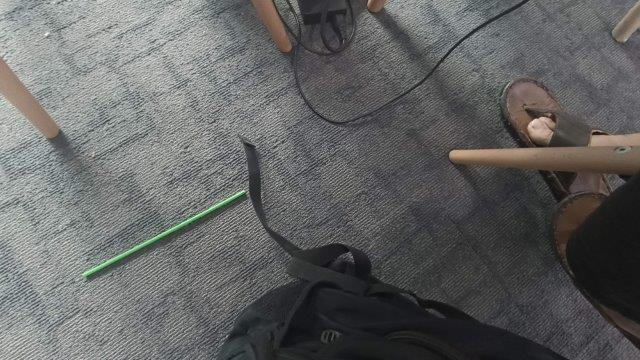sedotan: (87, 192, 244, 276)
